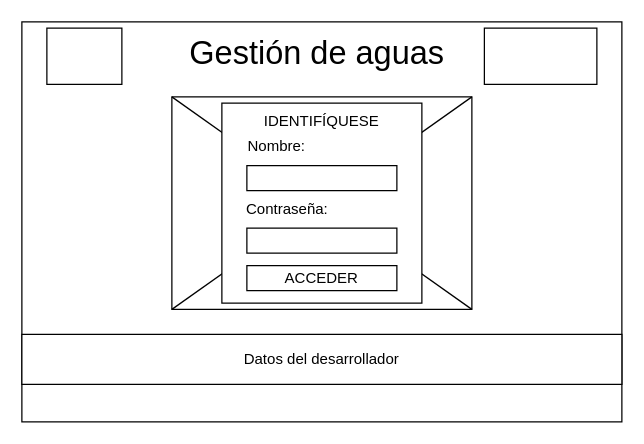
Some shapes in this 644 by 444 pixel diagram are drawn without their labels. The shapes that lost their labels are listed below. From the top down, each one's centre as x and y in pixels, then its label:
At point 84,55: "Logo empresa".
At point 540,55: "Emblema del municipio".
